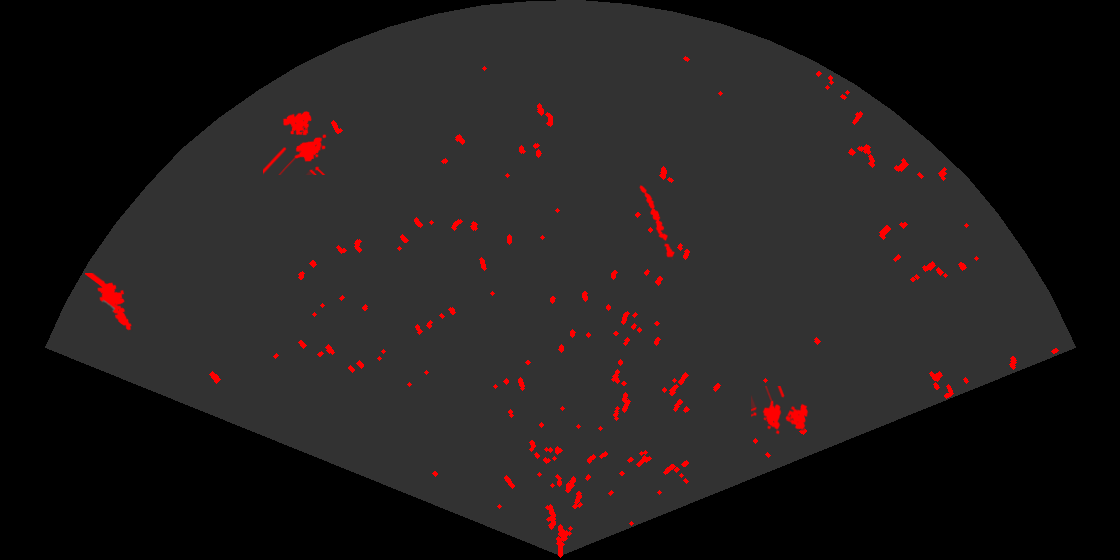cage: (263, 109, 328, 175), (751, 386, 810, 436)
chain: (638, 183, 676, 260)
frogman: (85, 273, 133, 332)
